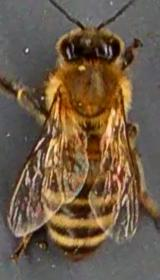varroa_mite: (104, 157, 126, 187)
